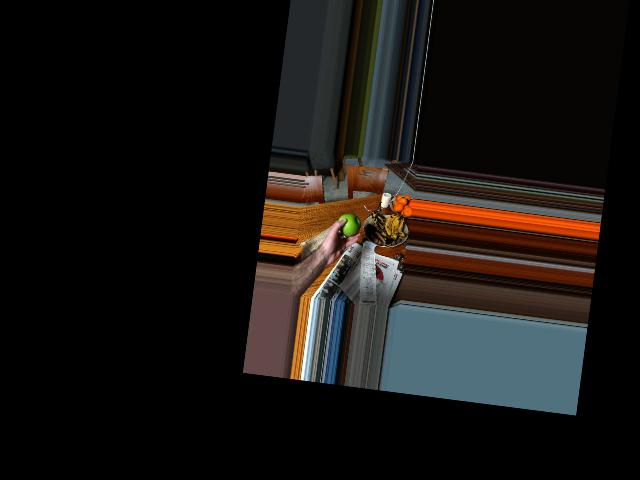apple: (334, 210, 362, 241)
